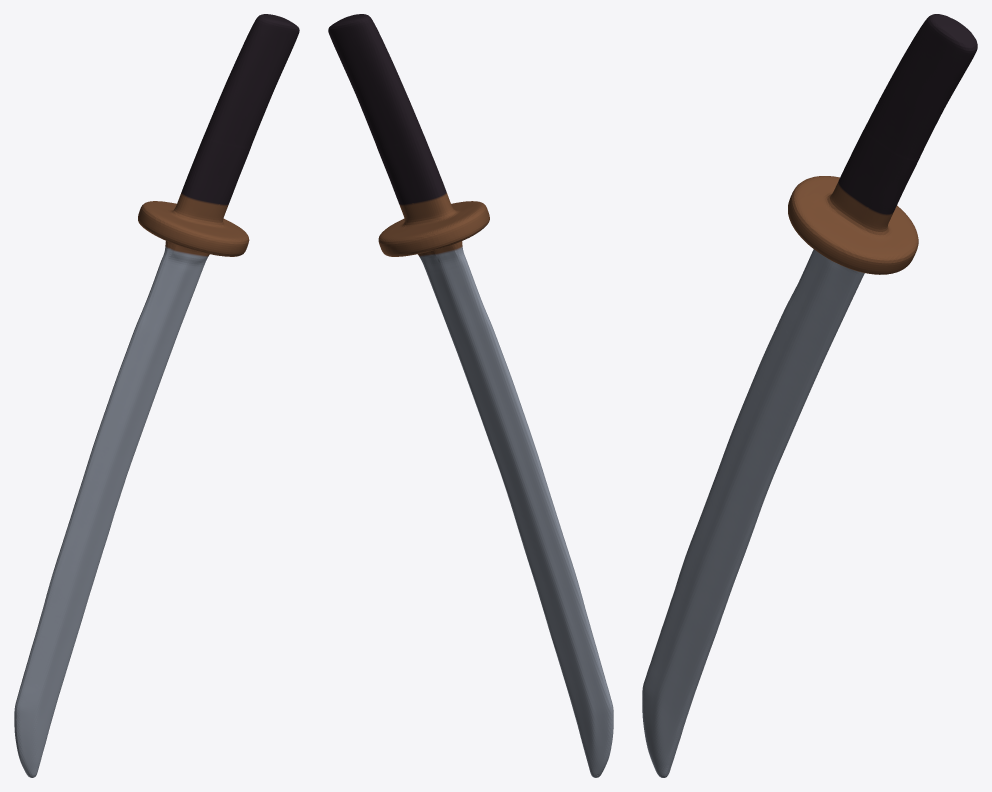
File: katana.glb
The picture shows the model from 3 angles, left to right: view 1: azimuth 30°, elevation 25°; view 2: azimuth 150°, elevation 25°; view 3: azimuth 330°, elevation 25°; orthographic projection. The views are drawn at different scales.
Parts seen in each view (by area): view 1: tmpbwt80tsw.ply; view 2: tmpbwt80tsw.ply; view 3: tmpbwt80tsw.ply.
Boxes of the visible parts, x1,y1,x2,y2 form: tmpbwt80tsw.ply: [14, 14, 299, 777]; tmpbwt80tsw.ply: [328, 14, 613, 777]; tmpbwt80tsw.ply: [642, 14, 977, 777].
Size of the model in its own units: 0.3781 by 0.898 by 0.1199.
